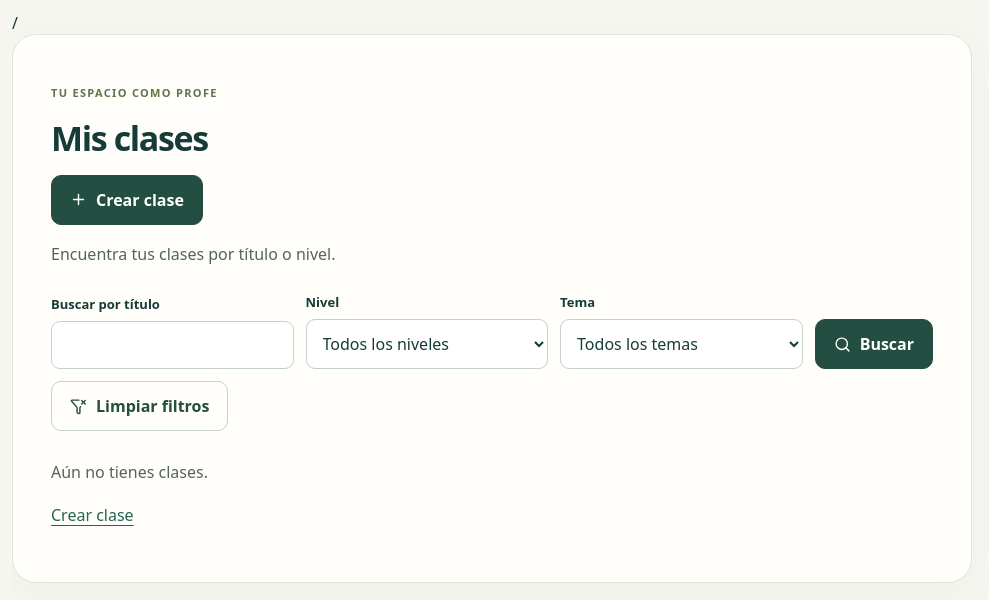
combines trimmed local filters and clears them without changing the URL
The width and height of the screenshot is (989, 600).
Expected: the text "Aún no tienes clases." is shown, 51,461 -> 208,483
Type " viaje " into the search field labelled "Buscar por título" at [172, 345], box 51,321 -> 294,369
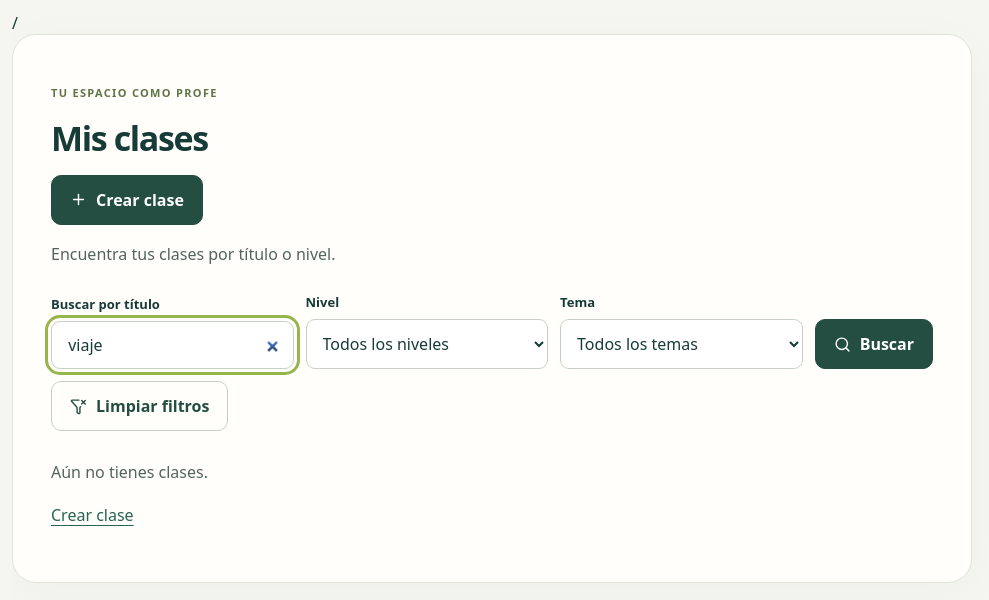
Select "B2" in the dropdown labelled "Nivel" at [427, 344], box 306,319 -> 548,369
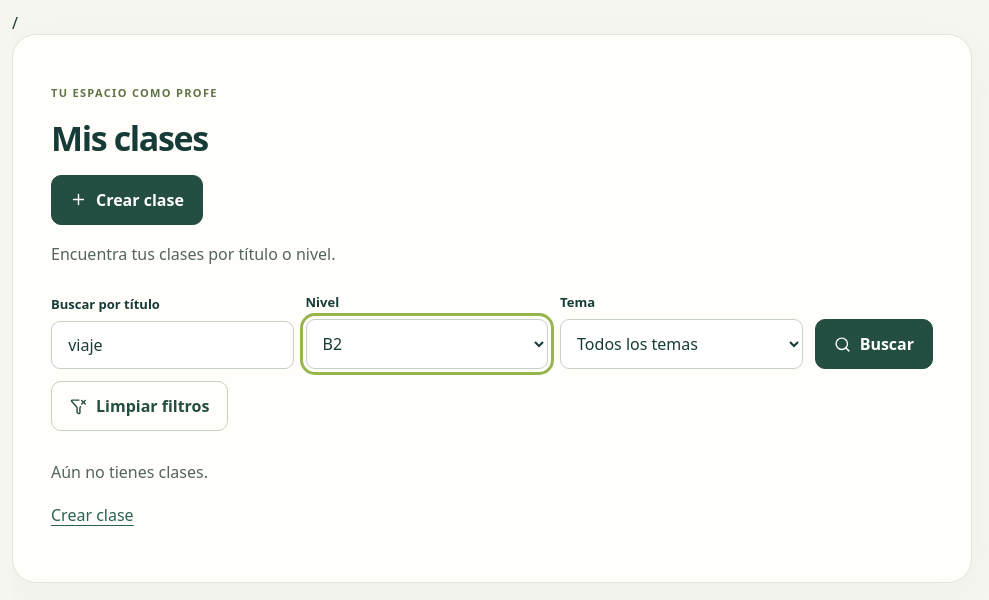
Select "Viajes y turismo" in the dropdown labelled "Tema" at [681, 344], box 560,319 -> 803,369
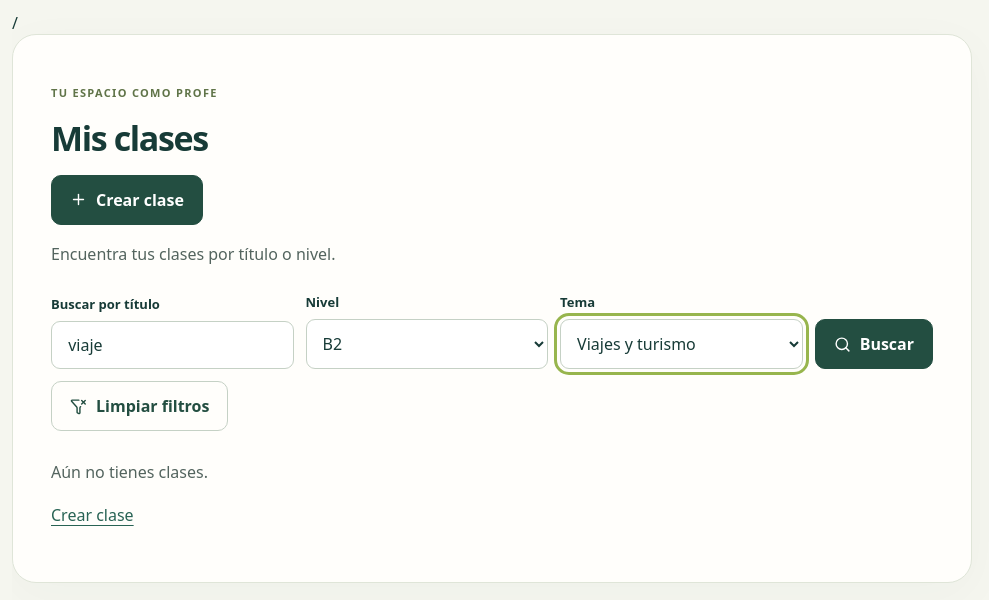
Click the button "Buscar" at [874, 344], box 815,319 -> 933,369
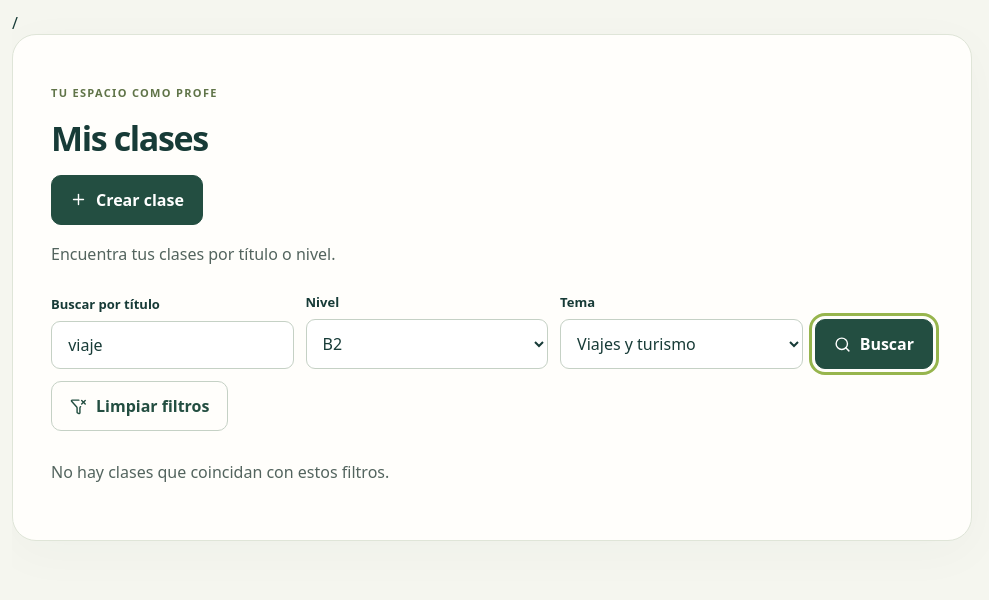
Expected: the text "No hay clases que coincidan con estos filtros." is shown, 51,461 -> 389,483
Click the button "Limpiar filtros" at [140, 406], box 51,381 -> 228,431
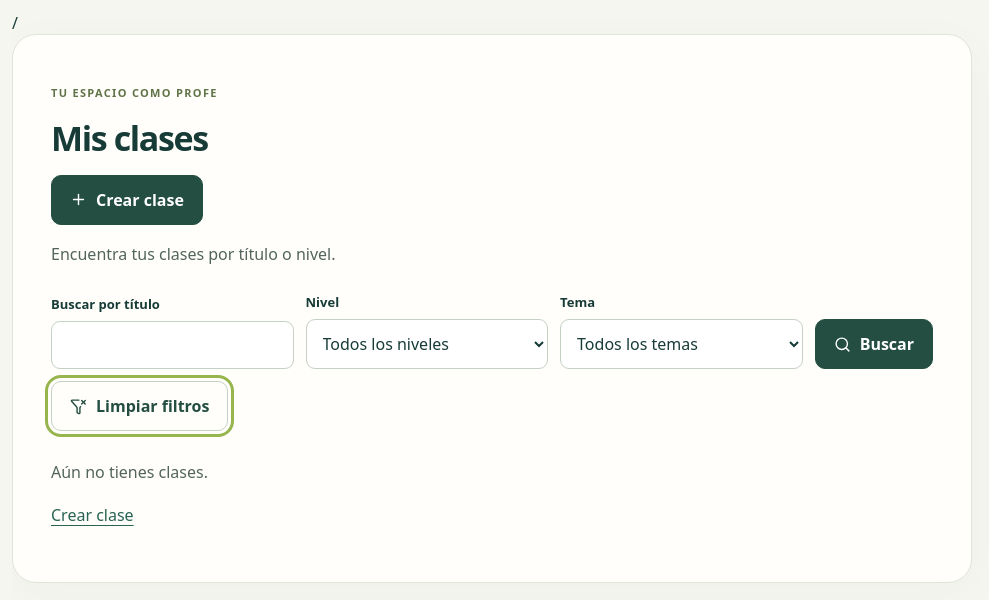
Expected: the text "Aún no tienes clases." is shown, 51,461 -> 208,483
Expected: the search field labelled "Buscar por título" is empty, 51,321 -> 294,369
